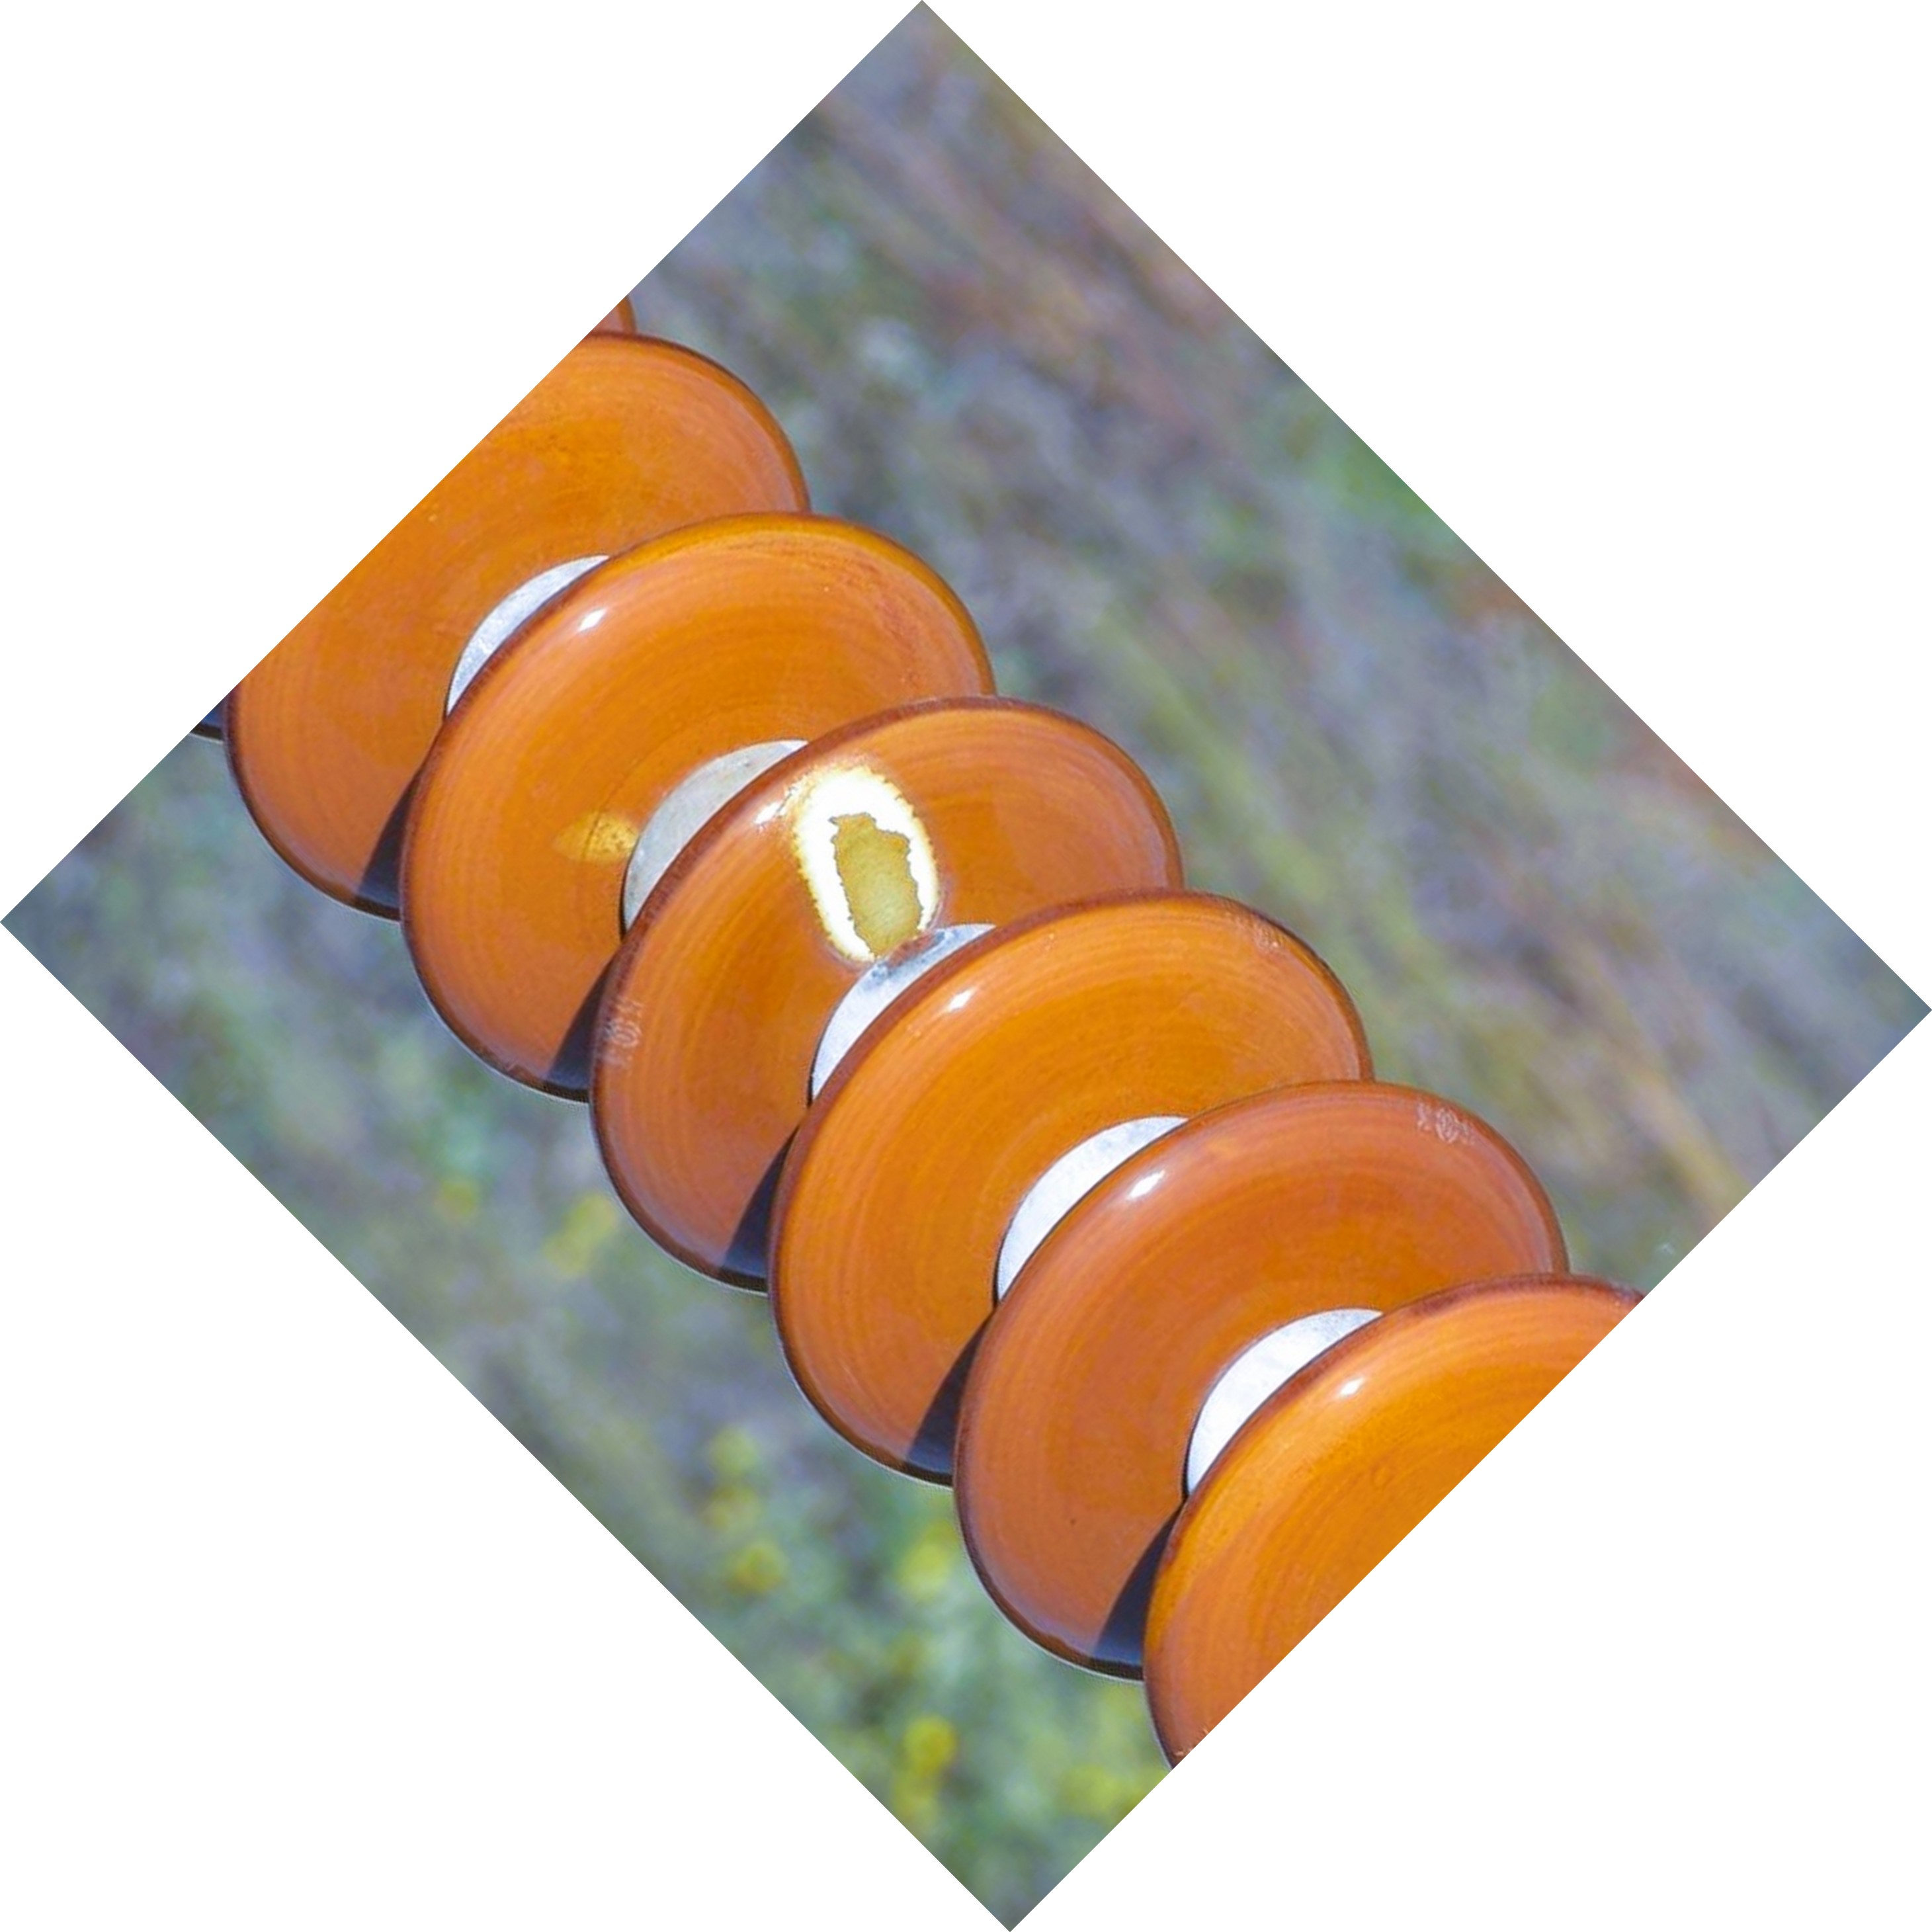Insulator flashover: (579, 686, 1219, 1284)
